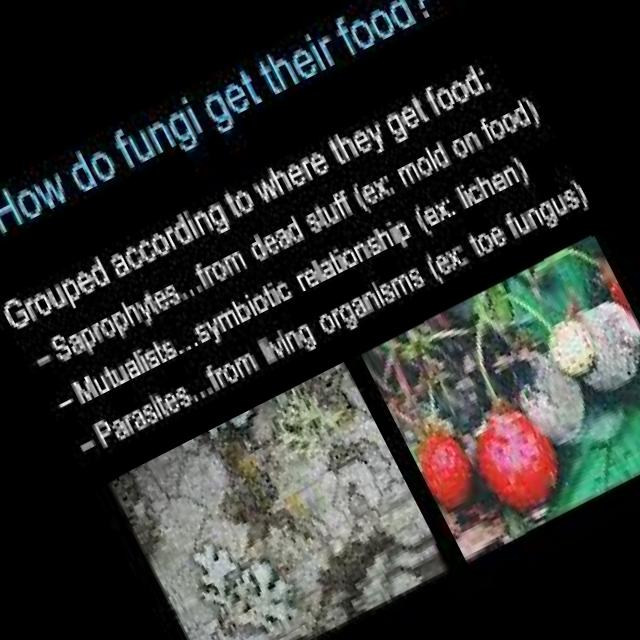Organic: (109, 361, 446, 640), (361, 231, 640, 567)
